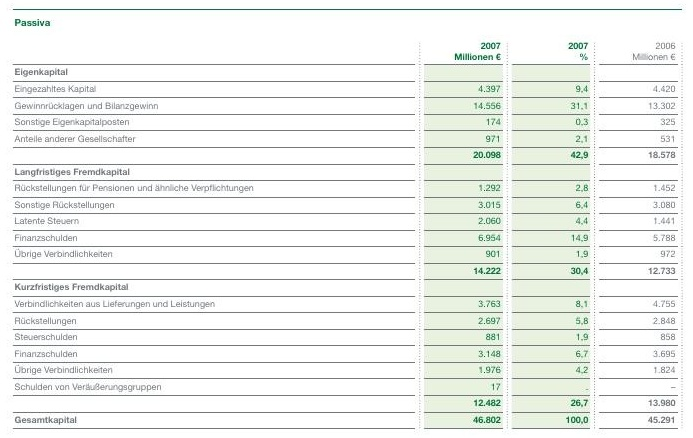table: (0, 0, 693, 438)
